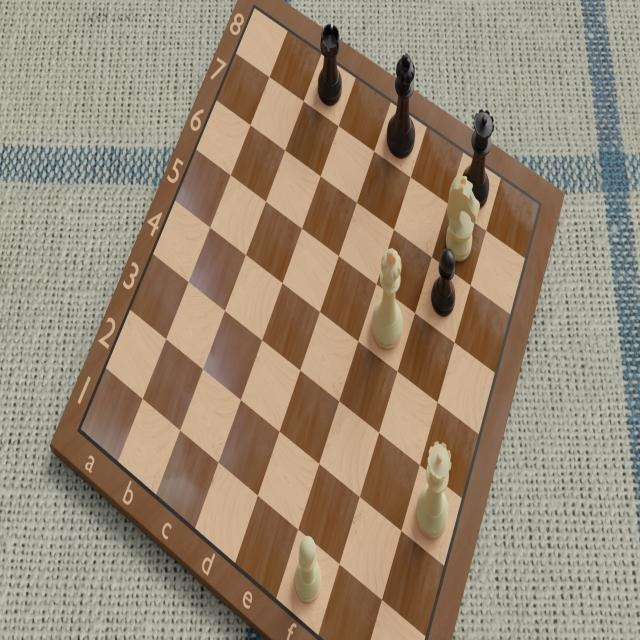black-king: (385, 52, 417, 164)
black-pawn: (427, 246, 458, 320)
black-queen: (459, 106, 496, 214)
black-rook: (315, 21, 345, 107)
white-king: (368, 243, 406, 352)
white-knight: (444, 169, 482, 268)
white-pawn: (290, 533, 322, 610)
white-queen: (415, 437, 452, 547)
